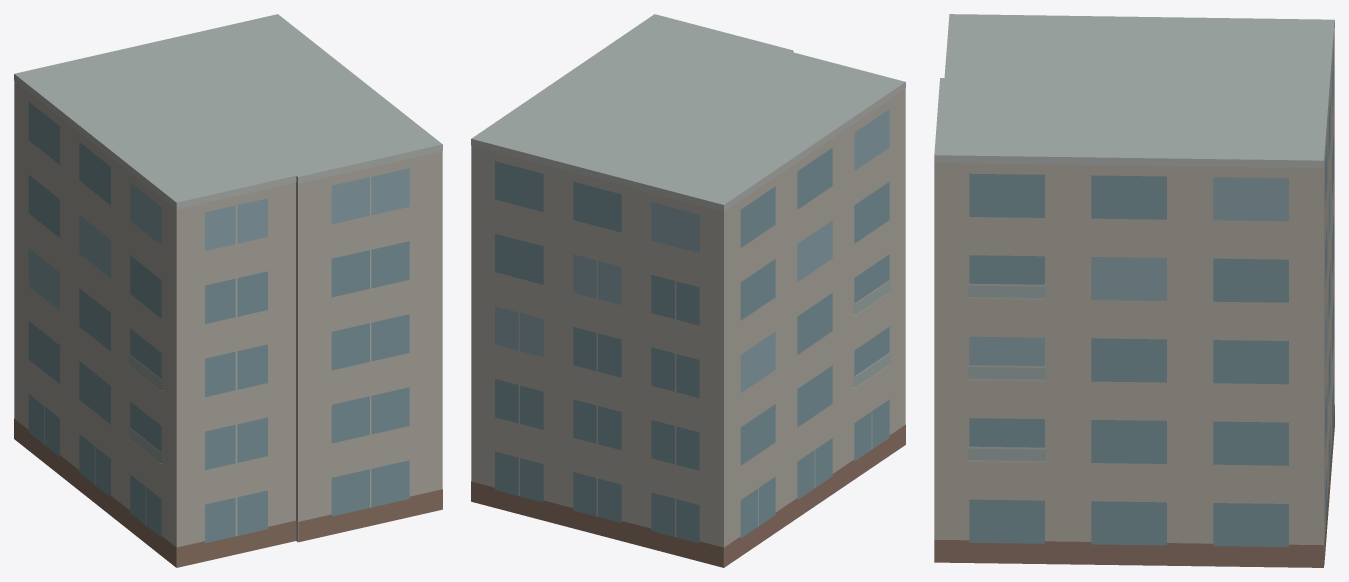
File: survey-upis-32969065.glb
The picture shows the model from 3 angles, left to right: view 1: azimuth 30°, elevation 25°; view 2: azimuth 150°, elevation 25°; view 3: azimuth 270°, elevation 25°; orthographic projection. The views are drawn at different scales.
Visible parts, largest first — view 1: survey-upis-32969065.tmp; view 2: survey-upis-32969065.tmp; view 3: survey-upis-32969065.tmp.
Part boxes in pixels (bbox=[...]): survey-upis-32969065.tmp: bbox=[14, 14, 442, 567]; survey-upis-32969065.tmp: bbox=[471, 14, 905, 567]; survey-upis-32969065.tmp: bbox=[934, 14, 1334, 567].
Size of the model in its own units: 10.12 by 13.1 by 11.68.
